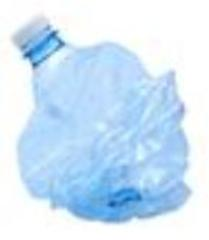plastic: (10, 13, 192, 222)
